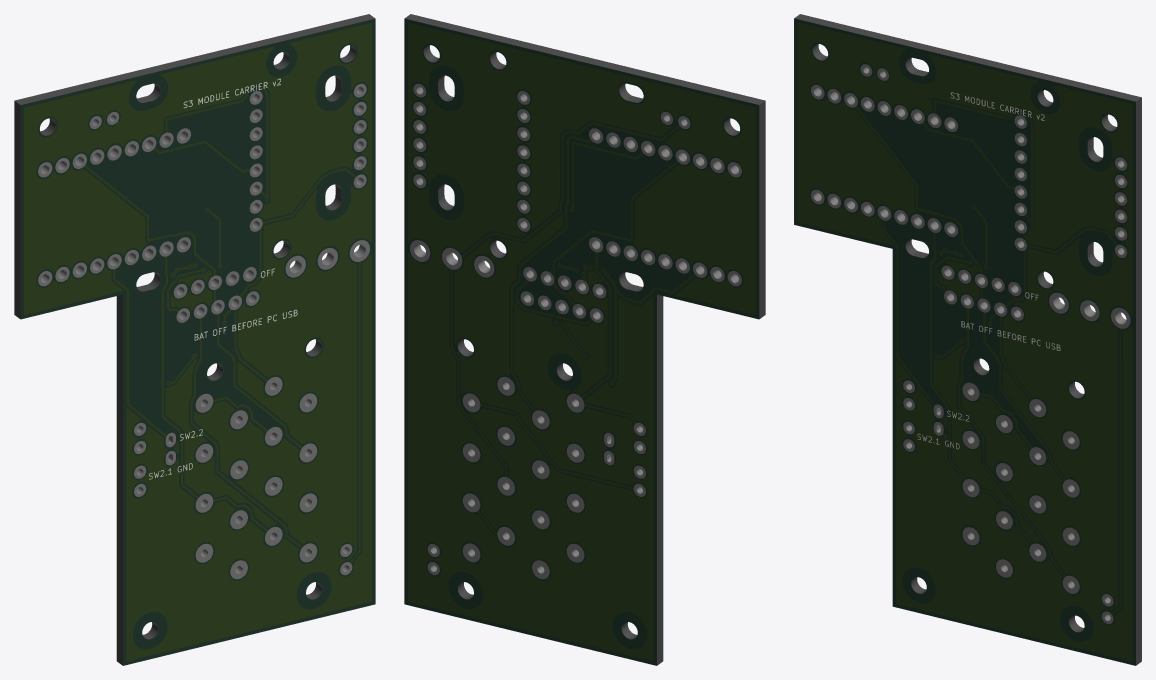
The model's file is preview-rectangular-mount.obj.
3 views of the same model, side by side, from view 1: azimuth 30°, elevation 25°; view 2: azimuth 150°, elevation 25°; view 3: azimuth 330°, elevation 25° (orthographic). The views are drawn at different scales.
Parts seen in each view (by area): view 1: grp8263, grp14910, grp1, grp55846, grp12303; view 2: grp8263, grp14910, grp1, grp55846; view 3: grp8263, grp14910, grp1, grp55846, grp12303.
Boxes of the visible parts, x1=… form: grp8263: x1=14, y1=14, x2=375, y2=665; grp14910: x1=24, y1=23, x2=371, y2=660; grp1: x1=14, y1=14, x2=374, y2=665; grp55846: x1=38, y1=83, x2=369, y2=579; grp12303: x1=149, y1=78, x2=297, y2=479; grp8263: x1=404, y1=14, x2=765, y2=665; grp14910: x1=408, y1=23, x2=755, y2=660; grp1: x1=405, y1=14, x2=765, y2=665; grp55846: x1=410, y1=83, x2=741, y2=579; grp8263: x1=794, y1=14, x2=1141, y2=665; grp14910: x1=798, y1=23, x2=1131, y2=660; grp1: x1=794, y1=14, x2=1141, y2=665; grp55846: x1=810, y1=64, x2=1130, y2=623; grp12303: x1=917, y1=92, x2=1060, y2=449.
Bounding box in the file's own units: 52 × 82 × 1.63.
